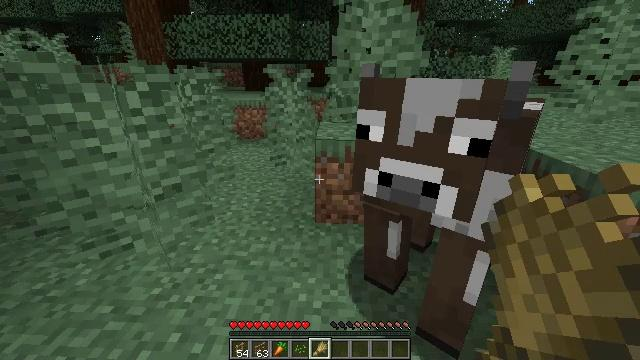cow: (360, 74, 531, 352)
